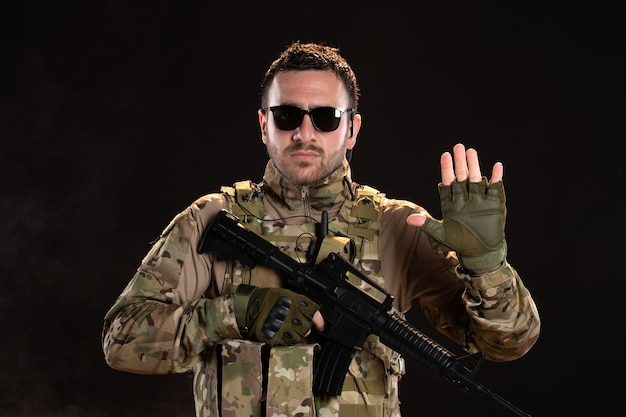gun: (197, 210, 538, 417)
